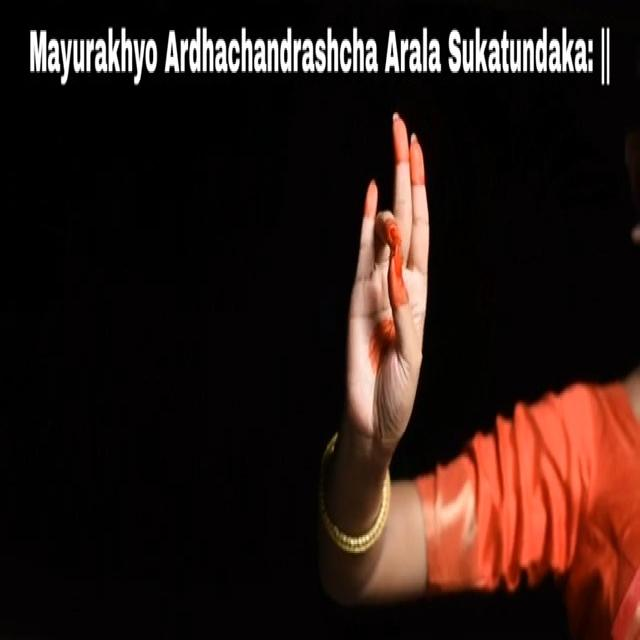Mayura: (340, 98, 445, 443)
bangle: (300, 470, 406, 565)
text: (20, 21, 615, 94)
